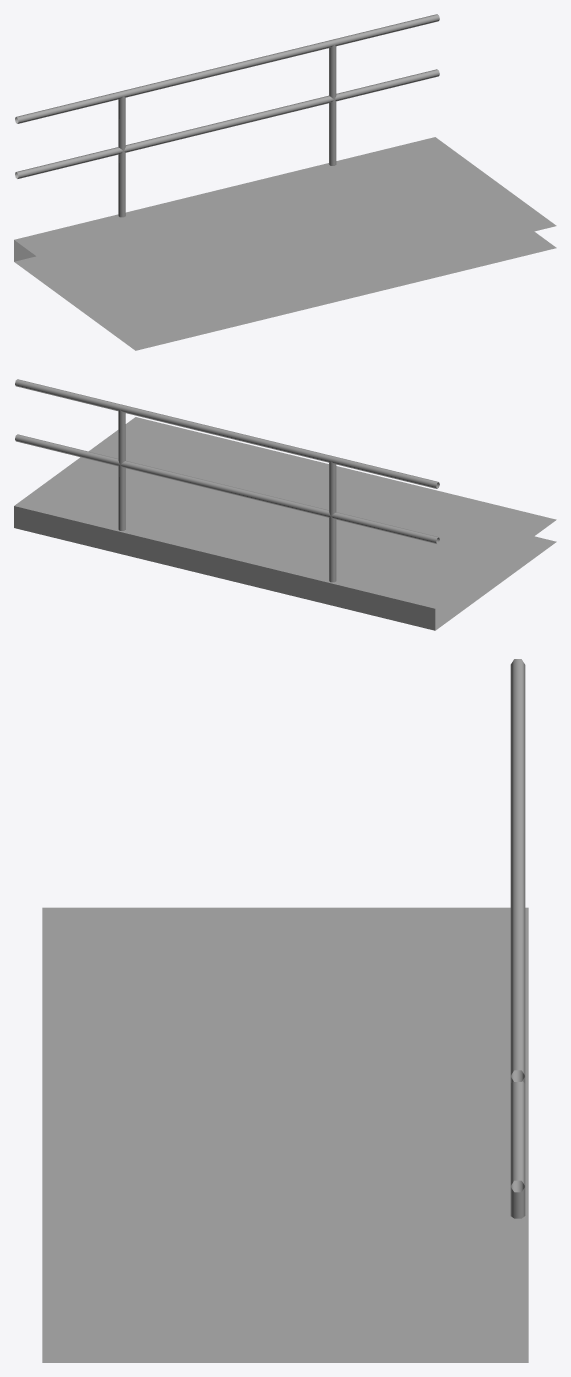
The model's file is SM_Railing_400.FBX.
3 renders of one model, top to bottom at view 1: azimuth 30°, elevation 25°; view 2: azimuth 150°, elevation 25°; view 3: azimuth 270°, elevation 25°, orthographic. The views are drawn at different scales.
Parts seen in each view (by area): view 1: SM_Railing_400; view 2: SM_Railing_400; view 3: SM_Railing_400.
Boxes of the visible parts, x1,y1,x2,y2 form: SM_Railing_400: [14, 14, 556, 350]; SM_Railing_400: [14, 379, 556, 630]; SM_Railing_400: [42, 659, 528, 1362].
Size of the model in its own units: 400 by 200 by 133.
